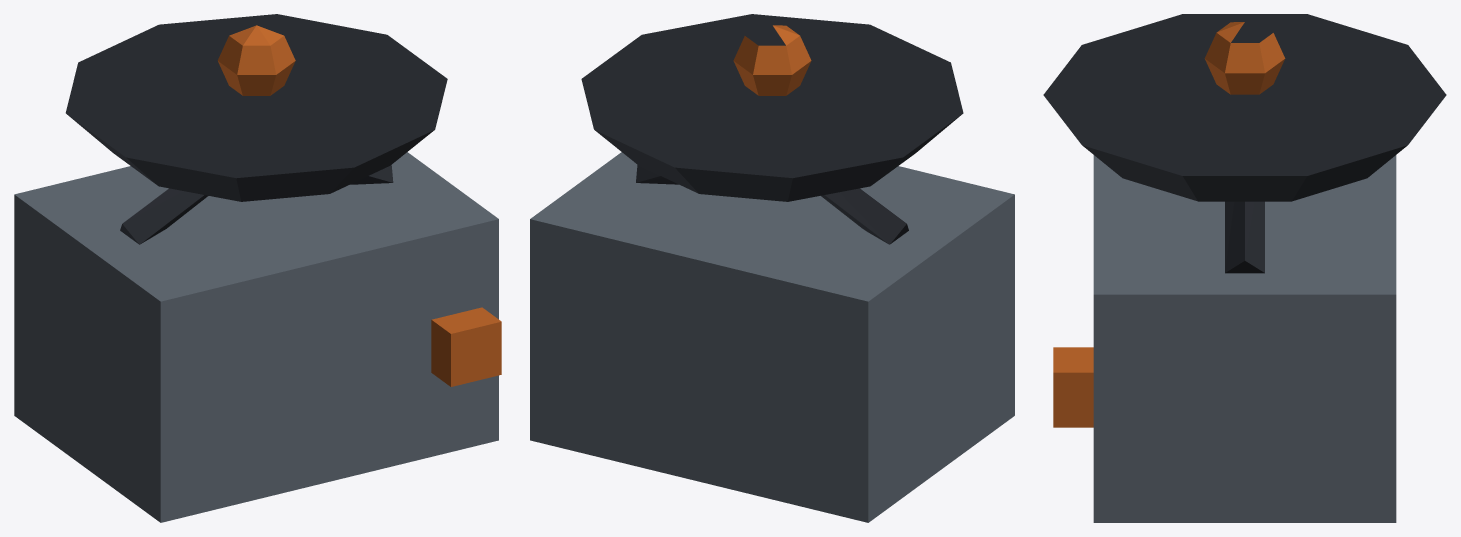
Rendered from comm-jammer.lod.glb.
3 renders of one model, left to right at view 1: azimuth 30°, elevation 25°; view 2: azimuth 150°, elevation 25°; view 3: azimuth 270°, elevation 25°, orthographic. The views are drawn at different scales.
Visible parts, largest first — view 1: m; view 2: m; view 3: m.
Part boxes in pixels (left/top/right/bottom): m: left=14, top=14, right=501, bottom=522; m: left=530, top=14, right=1014, bottom=522; m: left=1043, top=14, right=1446, bottom=522.
Size of the model in its own units: 0.1011 by 0.1149 by 0.1011.
